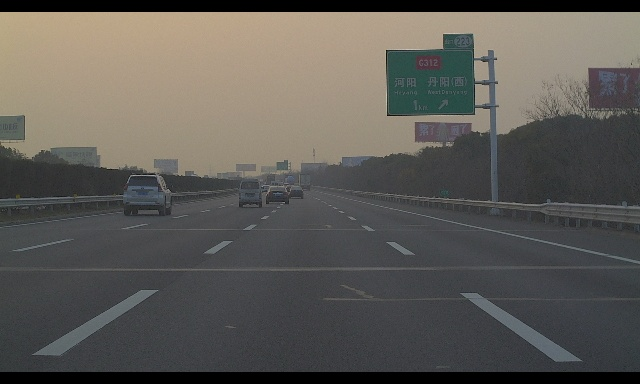car: (123, 173, 173, 216), (238, 179, 264, 207), (264, 186, 289, 204), (288, 186, 304, 199), (270, 181, 279, 189), (285, 185, 294, 192), (262, 185, 270, 192), (283, 183, 290, 189), (278, 182, 283, 187)
truck: (298, 174, 311, 191), (265, 175, 275, 188), (284, 175, 294, 187)
